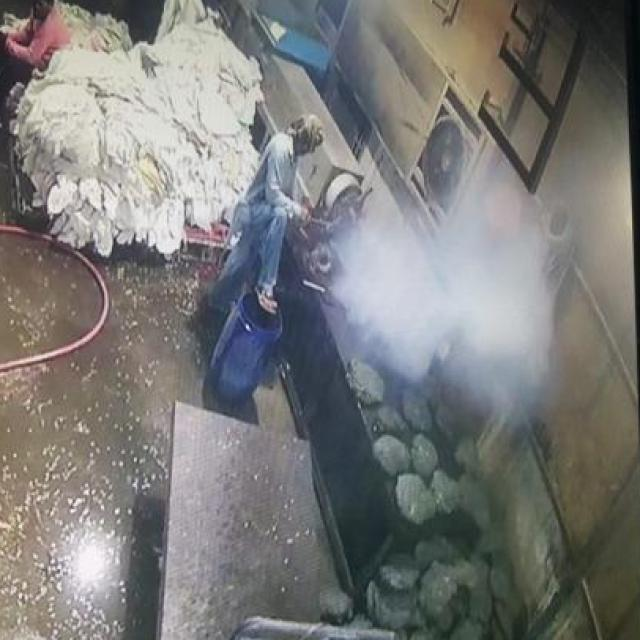fire: (328, 160, 563, 425)
